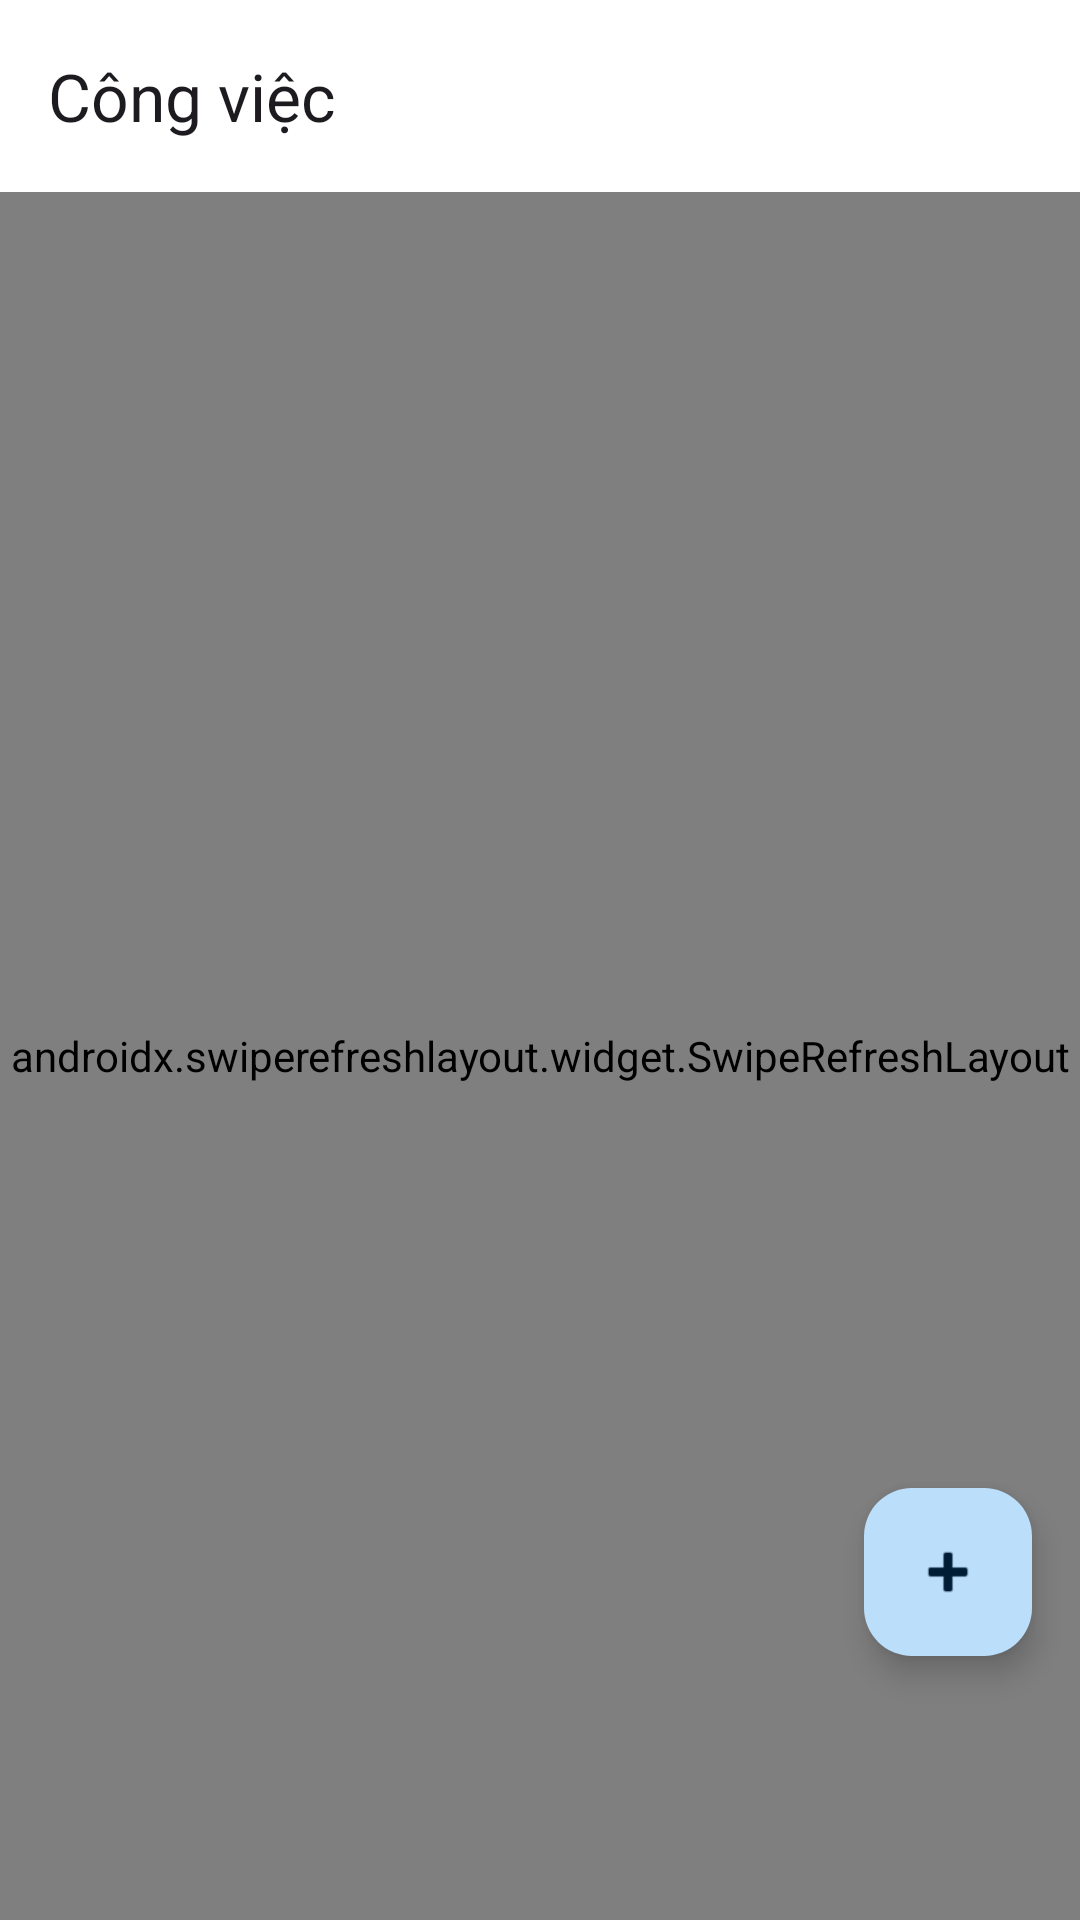

Icons on this 1080w x 1920h Android screen, each with its box as (x1, y1, x2, y2):
Thêm mới: (864, 1488, 1032, 1656)
